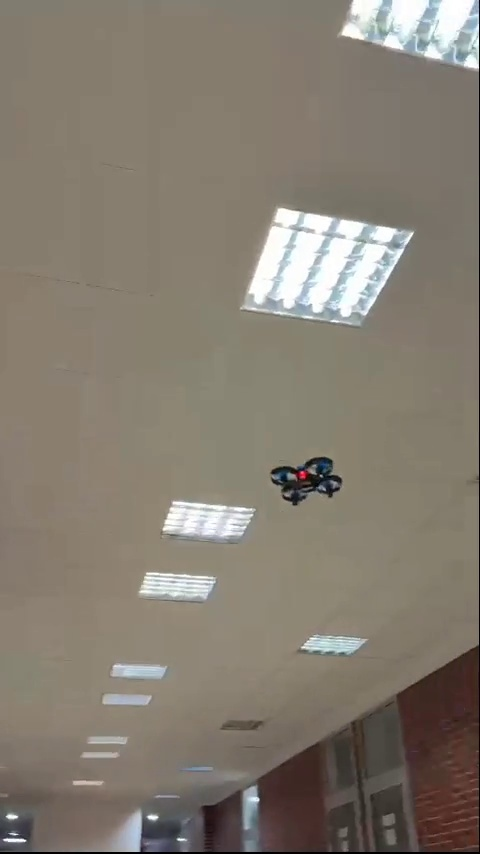drone: (271, 455, 340, 509)
